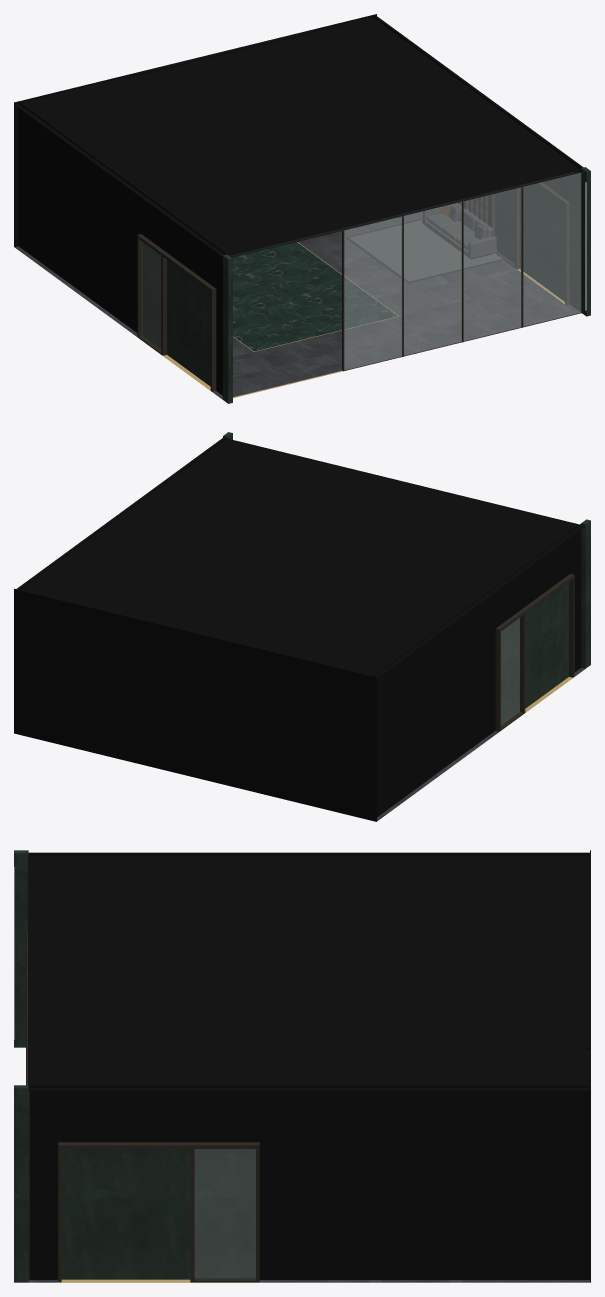
File: room_urban.glb
3 renders of one model, top to bottom at view 1: azimuth 30°, elevation 25°; view 2: azimuth 150°, elevation 25°; view 3: azimuth 270°, elevation 25°, orthographic. The views are drawn at different scales.
Parts seen in each view (by area): view 1: MTG_Reveals, MTG_Glass_Vitrine, MTG_Floor, MTG_PortalFill_L, MTG_PortalFill_R, MTG_Rug, MTG_Sofa, MTG_Walls, MTG_Glass_PortalL, MTG_Pier_-1, MTG_Pier_1, MTG_Ceiling (+4 smaller); view 2: MTG_Reveals, MTG_PortalFill_L, MTG_Glass_PortalL, MTG_Pier_-1, MTG_PortalL_Mull, MTG_Floor, MTG_PortalL_JambA, MTG_PortalL_Head, MTG_PortalL_JambB; view 3: MTG_Reveals, MTG_PortalFill_R, MTG_Glass_PortalR, MTG_Pier_1, MTG_Pier_-1, MTG_PortalR_Head, MTG_Floor, MTG_PortalR_Mull.
Part boxes in pixels (left/top/right/bottom): MTG_Reveals: left=14, top=14, right=583, bottom=395; MTG_Glass_Vitrine: left=344, top=173, right=580, bottom=369; MTG_Floor: left=14, top=211, right=579, bottom=399; MTG_PortalFill_L: left=142, top=242, right=210, bottom=386; MTG_PortalFill_R: left=495, top=184, right=564, bottom=301; MTG_Rug: left=349, top=220, right=502, bottom=281; MTG_Sofa: left=422, top=203, right=496, bottom=259; MTG_Walls: left=460, top=171, right=580, bottom=310; MTG_Glass_PortalL: left=142, top=242, right=160, bottom=348; MTG_Pier_-1: left=223, top=254, right=232, bottom=403; MTG_Pier_1: left=581, top=167, right=590, bottom=316; MTG_Ceiling: left=230, top=171, right=576, bottom=257; MTG_Reveals: left=14, top=437, right=584, bottom=821; MTG_PortalFill_L: left=501, top=582, right=568, bottom=725; MTG_Glass_PortalL: left=501, top=618, right=519, bottom=724; MTG_Pier_-1: left=581, top=519, right=590, bottom=668; MTG_PortalL_Mull: left=519, top=614, right=525, bottom=713; MTG_Floor: left=377, top=668, right=584, bottom=821; MTG_PortalL_JambA: left=495, top=631, right=500, bottom=731; MTG_PortalL_Head: left=495, top=574, right=574, bottom=632; MTG_PortalL_JambB: left=569, top=578, right=574, bottom=677; MTG_Reveals: left=28, top=850, right=590, bottom=1282; MTG_PortalFill_R: left=61, top=1149, right=255, bottom=1279; MTG_Glass_PortalR: left=195, top=1149, right=255, bottom=1277; MTG_Pier_1: left=14, top=1085, right=28, bottom=1282; MTG_Pier_-1: left=14, top=850, right=28, bottom=1047; MTG_PortalR_Head: left=58, top=1142, right=259, bottom=1148; MTG_Floor: left=28, top=1280, right=589, bottom=1282; MTG_PortalR_Mull: left=190, top=1149, right=194, bottom=1282.
Bounding box in the file's own units: 13 × 4.95 × 13.32.
23 materials, 6 textured.
